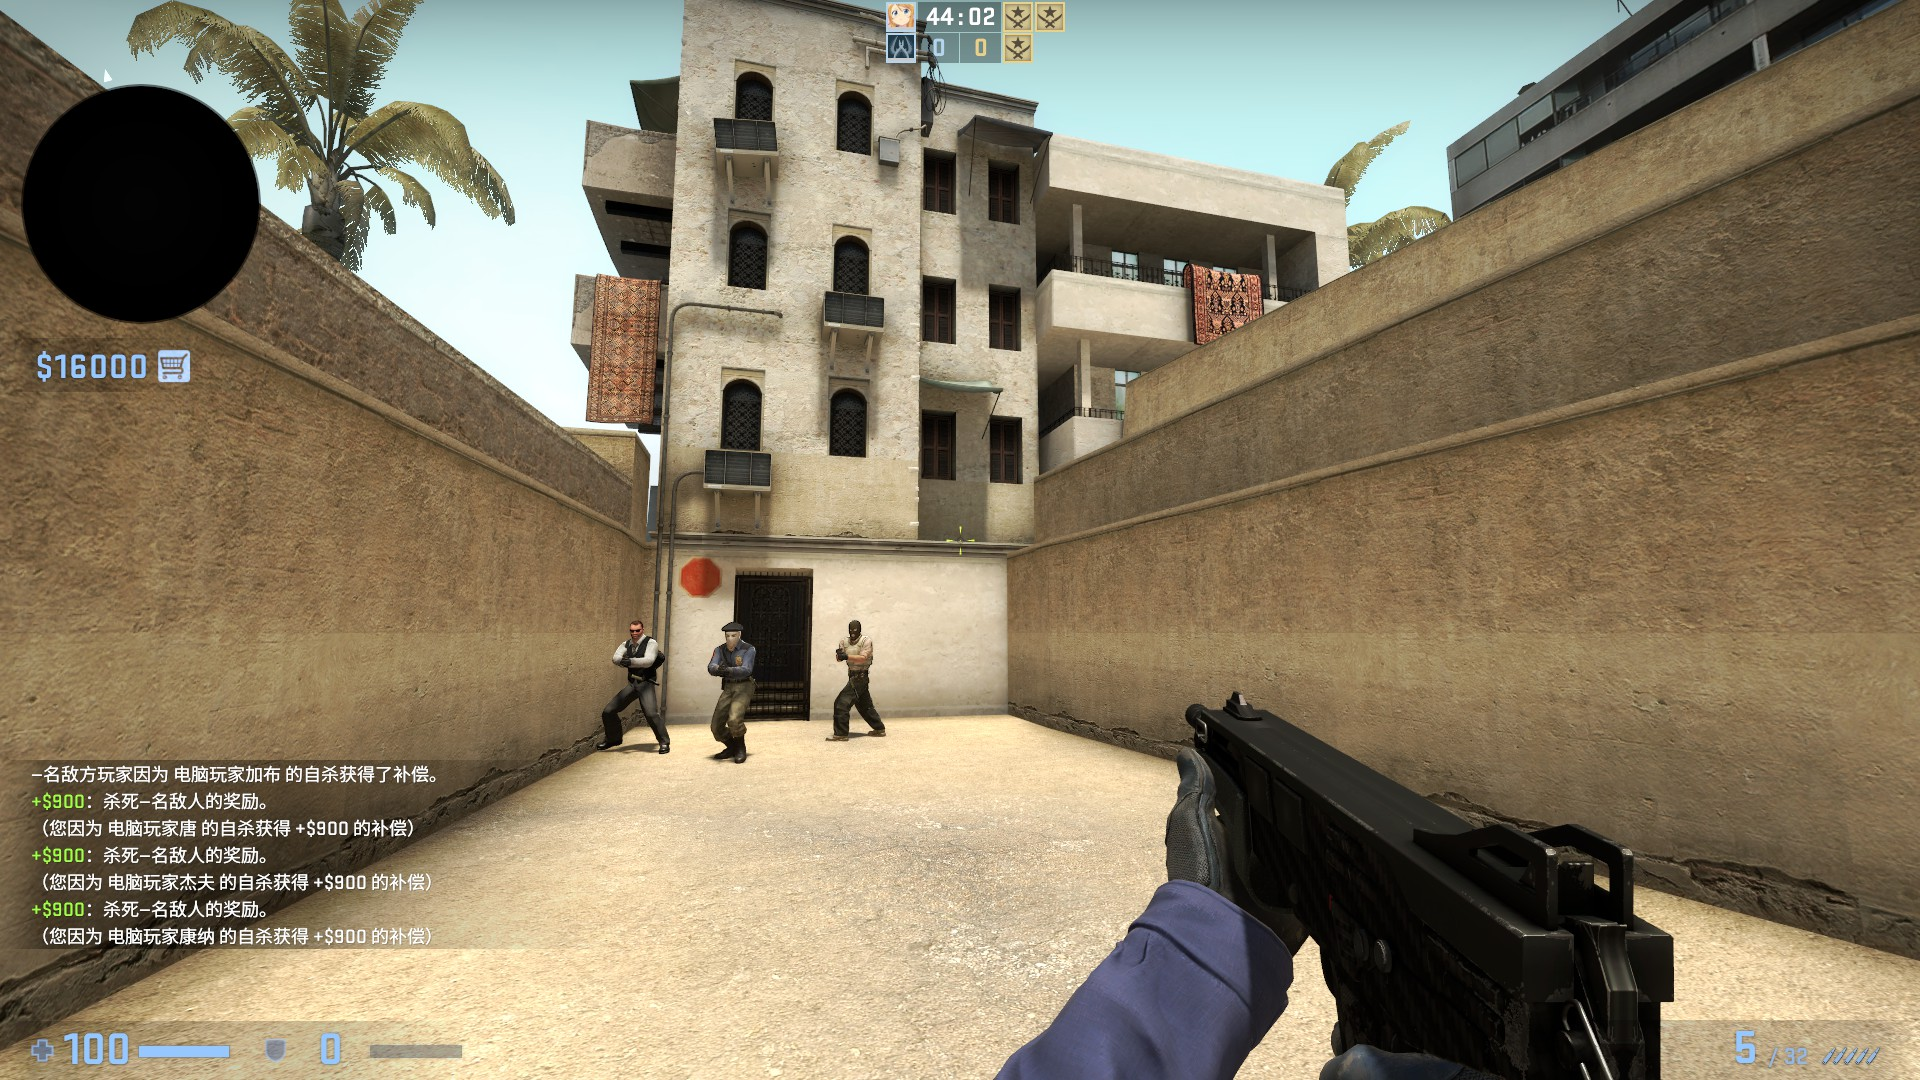head: (719, 620, 744, 652), (843, 618, 863, 645), (625, 619, 644, 642)
